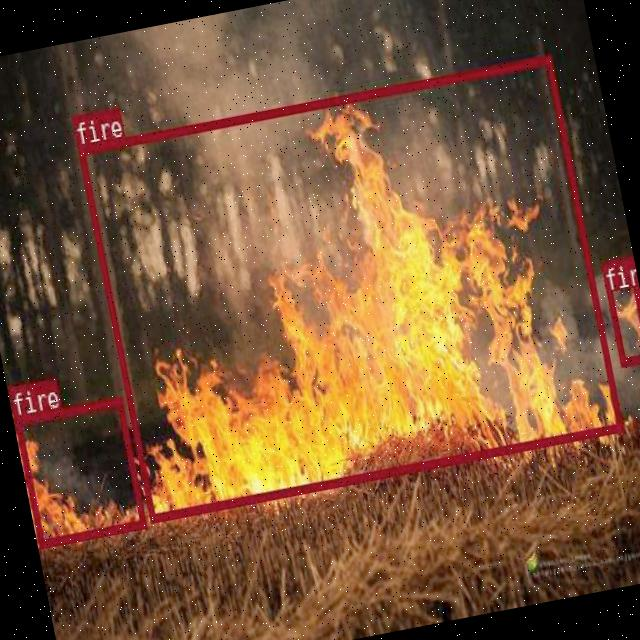fire: (77, 55, 622, 522), (13, 395, 146, 548), (599, 255, 640, 364)
